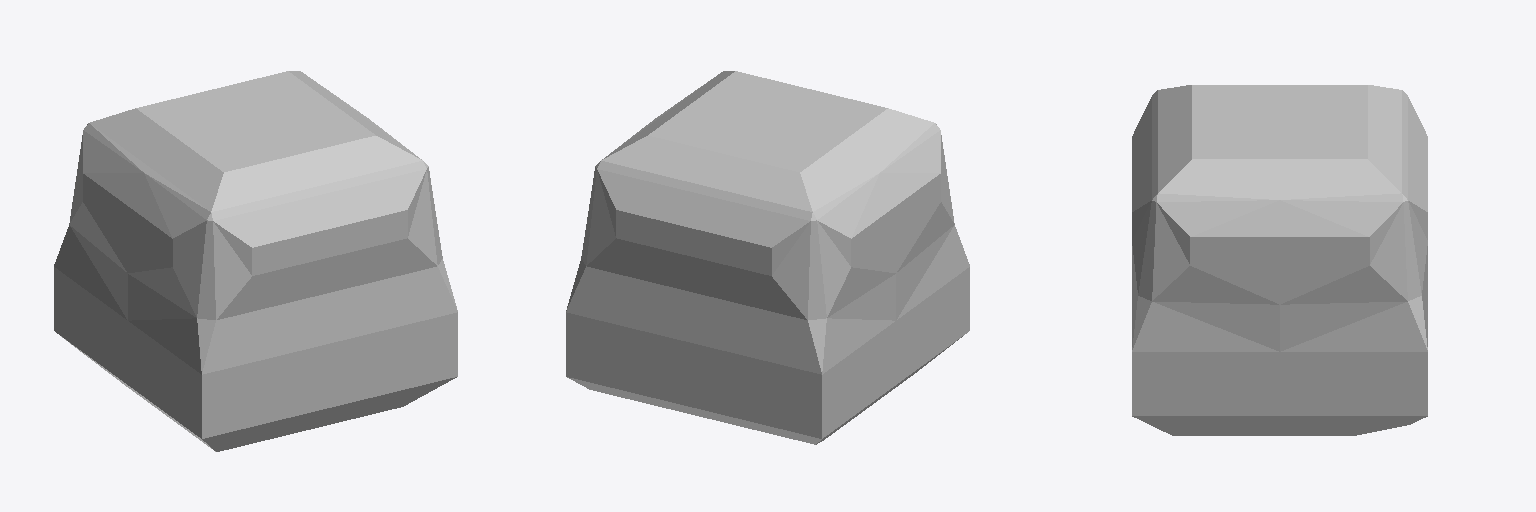
Rendered from ghost.obj.
3 views of the same model, side by side, from view 1: azimuth 30°, elevation 25°; view 2: azimuth 150°, elevation 25°; view 3: azimuth 270°, elevation 25° (orthographic).
Visible parts, largest first — view 1: Cube; view 2: Cube; view 3: Cube.
Part boxes in pixels (x1,y1,x2,y2): Cube: (54,71,457,451); Cube: (566,71,969,444); Cube: (1132,85,1427,435).
Bounding box in the file's own units: 2 × 2 × 2.